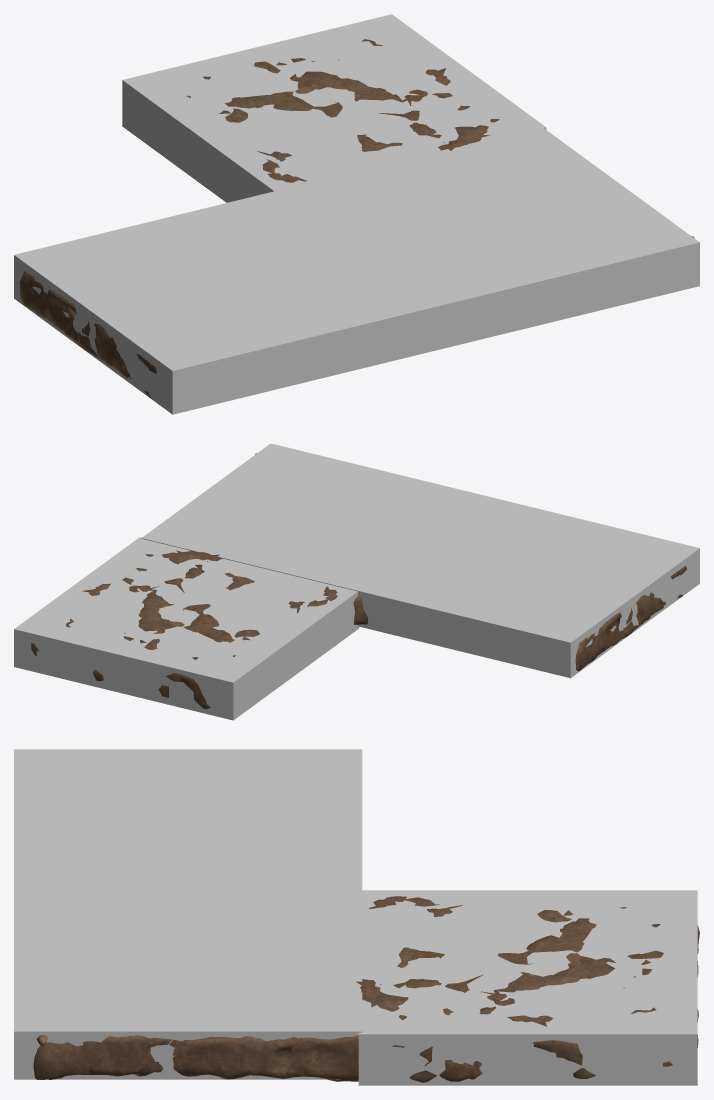
The model's file is SM_mud_wall_mod_08.fbx.
The picture shows the model from 3 angles, top to bottom: view 1: azimuth 30°, elevation 25°; view 2: azimuth 150°, elevation 25°; view 3: azimuth 270°, elevation 25°; orthographic projection. The views are drawn at different scales.
Visible parts, largest first — view 1: SM_mud_wall_mod_08_ConvexHulls, SM_mud_wall_mod_08; view 2: SM_mud_wall_mod_08_ConvexHulls, SM_mud_wall_mod_08; view 3: SM_mud_wall_mod_08_ConvexHulls, SM_mud_wall_mod_08.
Boxes of the visible parts, x1,y1,x2,y2 form: SM_mud_wall_mod_08_ConvexHulls: (14,14,699,414); SM_mud_wall_mod_08: (19,39,694,398); SM_mud_wall_mod_08_ConvexHulls: (14,443,699,720); SM_mud_wall_mod_08: (31,453,686,709); SM_mud_wall_mod_08_ConvexHulls: (14,749,697,1085); SM_mud_wall_mod_08: (33,896,699,1082).
Size of the model in its own units: 252 by 254 by 23.77.
Materials: 3 (2 with a texture image).
